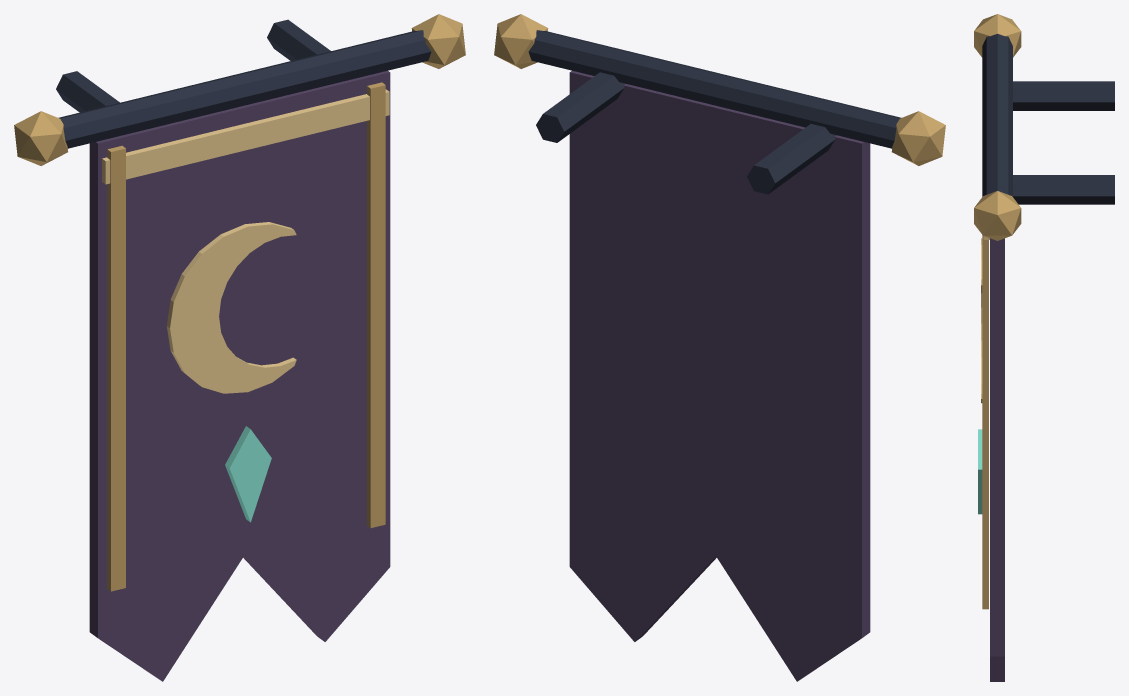
Rendered from EG_Estandarte_Bifido.fbx.
3 renders of one model, left to right at view 1: azimuth 30°, elevation 25°; view 2: azimuth 150°, elevation 25°; view 3: azimuth 270°, elevation 25°, orthographic. The views are drawn at different scales.
Parts seen in each view (by area): view 1: EG_Estandarte_Bifido; view 2: EG_Estandarte_Bifido; view 3: EG_Estandarte_Bifido.
Part boxes in pixels (x1,y1,x2,y2): EG_Estandarte_Bifido: (14, 14, 465, 681); EG_Estandarte_Bifido: (494, 14, 945, 681); EG_Estandarte_Bifido: (974, 14, 1114, 681).
Bounding box in the file's own units: 1.1 × 1.41 × 0.3303.
Materials: 2 (2 with a texture image).
